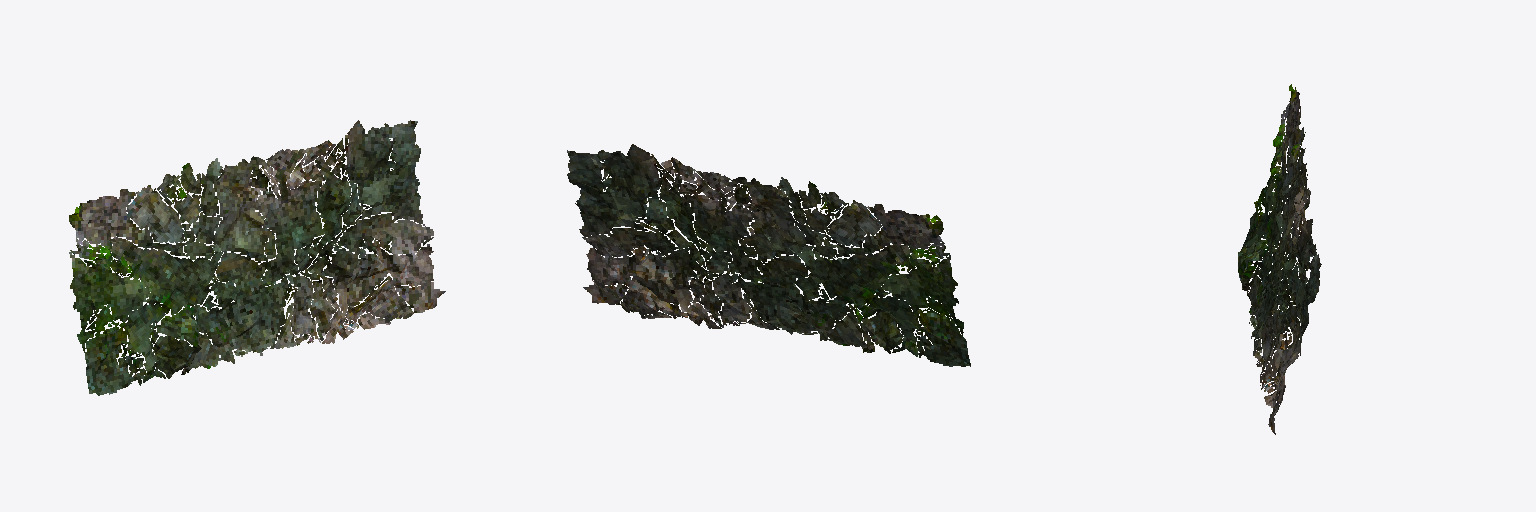
3 views of the same model, side by side, from view 1: azimuth 30°, elevation 25°; view 2: azimuth 150°, elevation 25°; view 3: azimuth 270°, elevation 25° (orthographic).
Size of the model in its own units: 4.43 by 2.2 by 0.8553.
Materials: 1 (1 with a texture image).